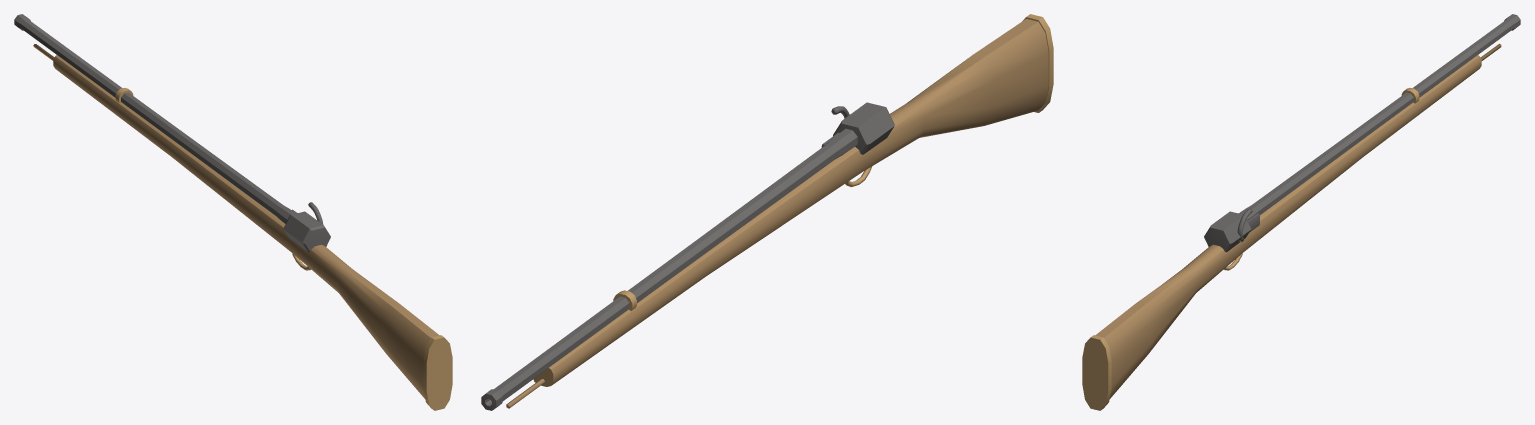
The model's file is cylinder-rifle.glb.
3 renders of one model, left to right at view 1: azimuth 30°, elevation 25°; view 2: azimuth 150°, elevation 25°; view 3: azimuth 330°, elevation 25°, orthographic. The views are drawn at different scales.
Parts seen in each view (by area): view 1: cylinder-rifle; view 2: cylinder-rifle; view 3: cylinder-rifle.
Boxes of the visible parts, x1,y1,x2,y2 form: cylinder-rifle: (14,14,452,410); cylinder-rifle: (481,14,1053,410); cylinder-rifle: (1082,14,1520,410).
Size of the model in its own units: 0.1141 by 0.3721 by 2.81.
